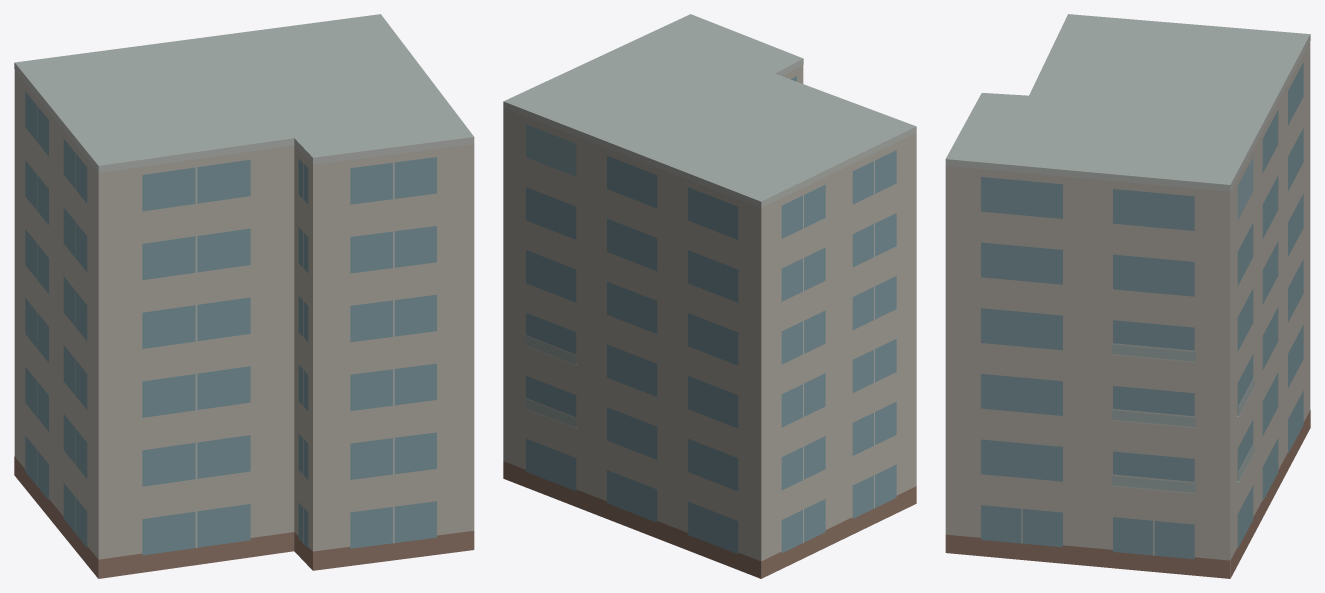
The model's file is survey-upis-33027436.glb.
3 renders of one model, left to right at view 1: azimuth 30°, elevation 25°; view 2: azimuth 150°, elevation 25°; view 3: azimuth 270°, elevation 25°, orthographic. The views are drawn at different scales.
Visible parts, largest first — view 1: survey-upis-33027436.tmp; view 2: survey-upis-33027436.tmp; view 3: survey-upis-33027436.tmp.
Boxes of the visible parts, bbox=[...] form: survey-upis-33027436.tmp: bbox=[14, 14, 474, 578]; survey-upis-33027436.tmp: bbox=[503, 14, 916, 578]; survey-upis-33027436.tmp: bbox=[945, 14, 1310, 578].
Bounding box in the file's own units: 13.32 × 14.3 × 12.02.
